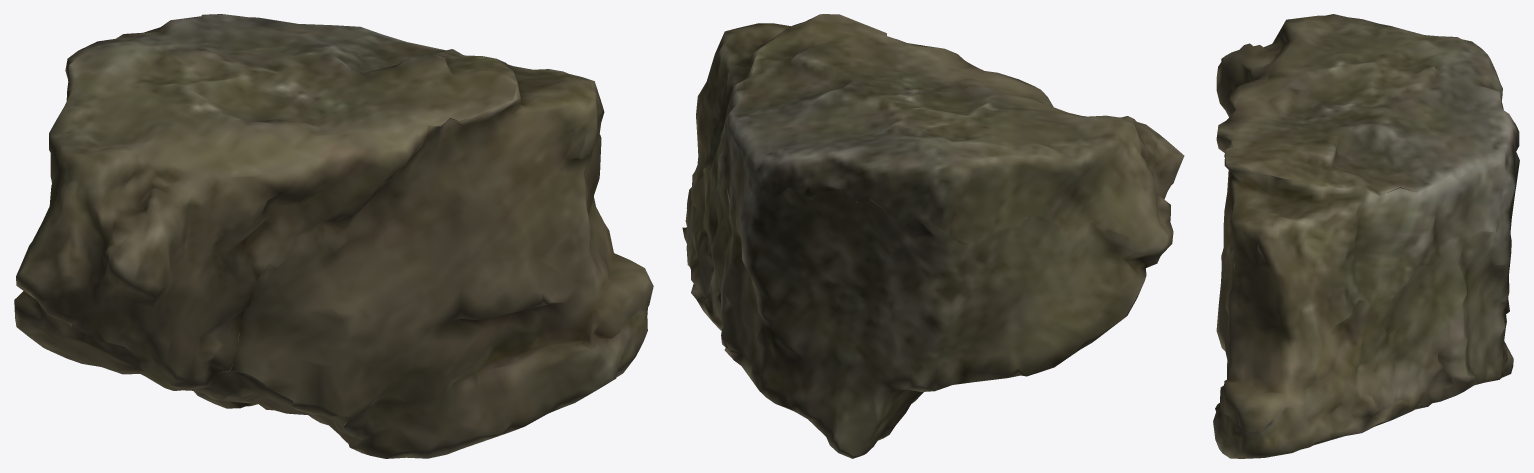
File: rock_moss_set_02_f.gltf.lod.glb
3 renders of one model, left to right at view 1: azimuth 30°, elevation 25°; view 2: azimuth 150°, elevation 25°; view 3: azimuth 270°, elevation 25°, orthographic. The views are drawn at different scales.
Parts seen in each view (by area): view 1: rock_moss_set_02_rock13; view 2: rock_moss_set_02_rock13; view 3: rock_moss_set_02_rock13.
Part boxes in pixels (<box>): rock_moss_set_02_rock13: <box>14,14,653,458</box>; rock_moss_set_02_rock13: <box>682,14,1184,458</box>; rock_moss_set_02_rock13: <box>1213,14,1519,458</box>.
Size of the model in its own units: 2.09 by 1.25 by 1.14.
1 material, 1 textured.
